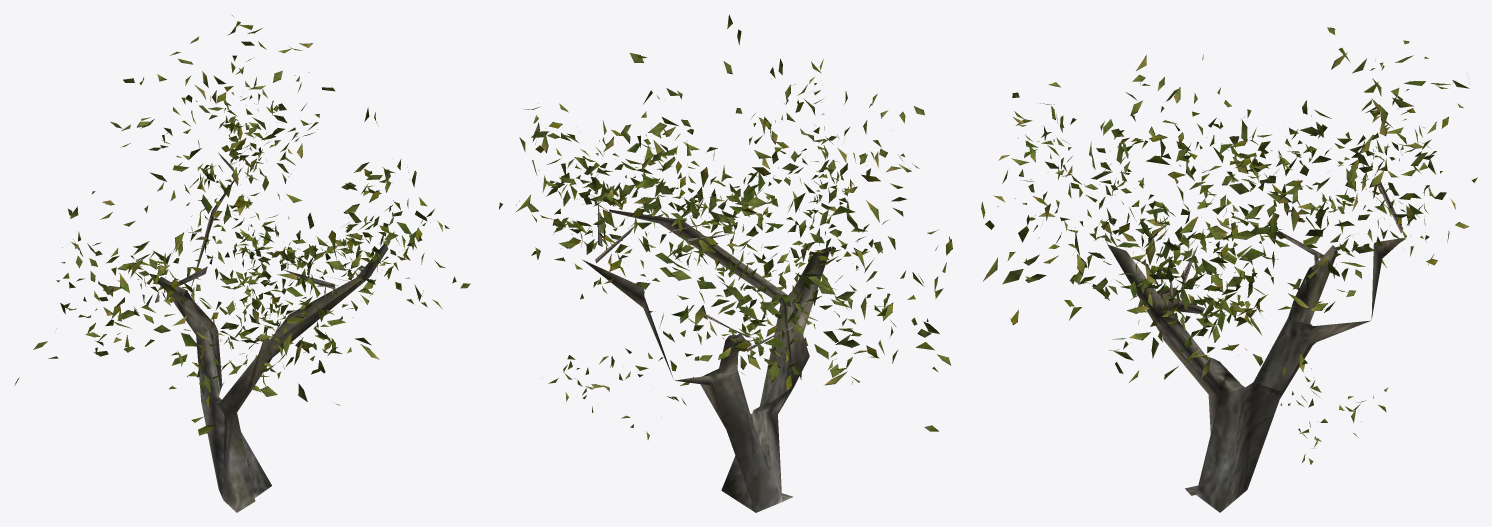
The model's file is arbre_feuillu_rond_lod2.glb.
3 renders of one model, left to right at view 1: azimuth 30°, elevation 25°; view 2: azimuth 150°, elevation 25°; view 3: azimuth 270°, elevation 25°, orthographic. The views are drawn at different scales.
Visible parts, largest first — view 1: island_tree_01_LOD0; view 2: island_tree_01_LOD0; view 3: island_tree_01_LOD0.
Boxes of the visible parts, left/top/right/bottom form: island_tree_01_LOD0: left=14, top=15, right=470, bottom=512; island_tree_01_LOD0: left=499, top=14, right=952, bottom=512; island_tree_01_LOD0: left=981, top=27, right=1477, bottom=512.
Bounding box in the file's own units: 4.72 × 4.94 × 4.34.
3 materials, 3 textured.
